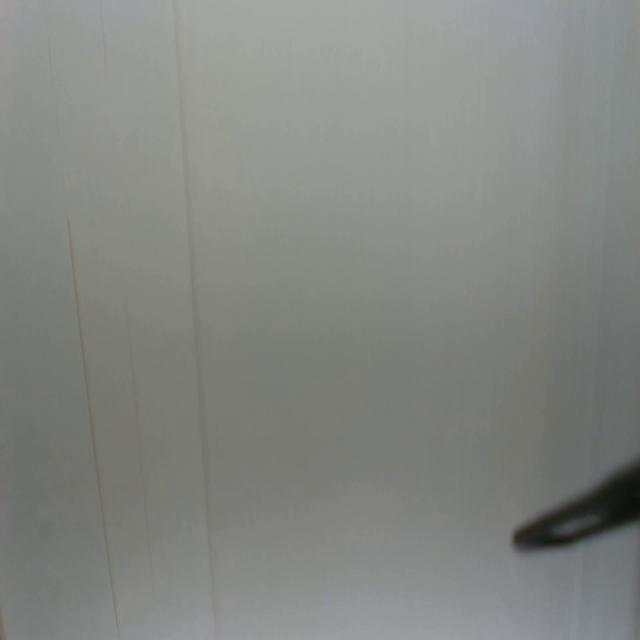crease: (170, 0, 219, 640), (66, 212, 120, 639), (122, 285, 154, 567), (43, 0, 59, 141), (98, 0, 110, 79)
